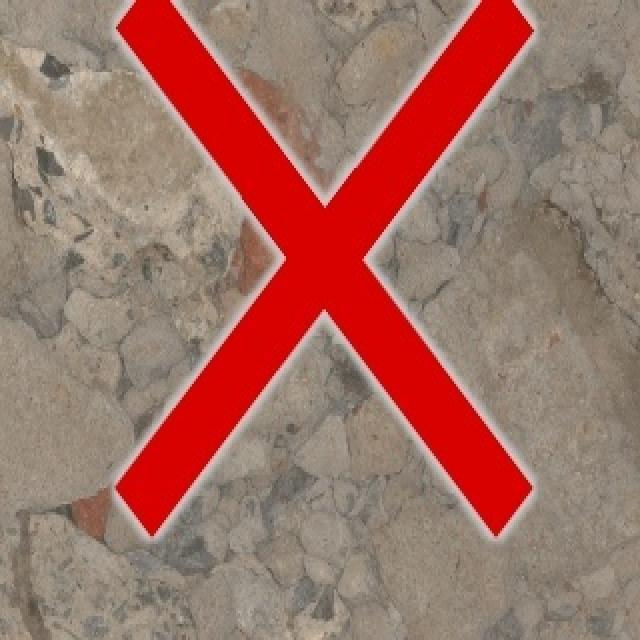x_marker: (115, 0, 533, 536)
